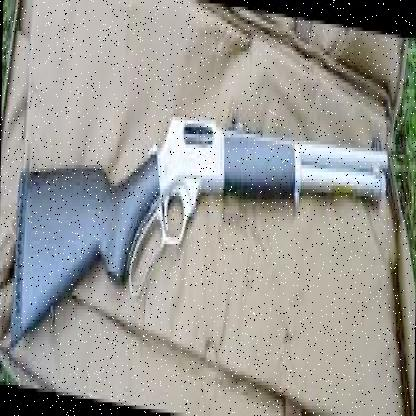rifle: (8, 69, 392, 409)
